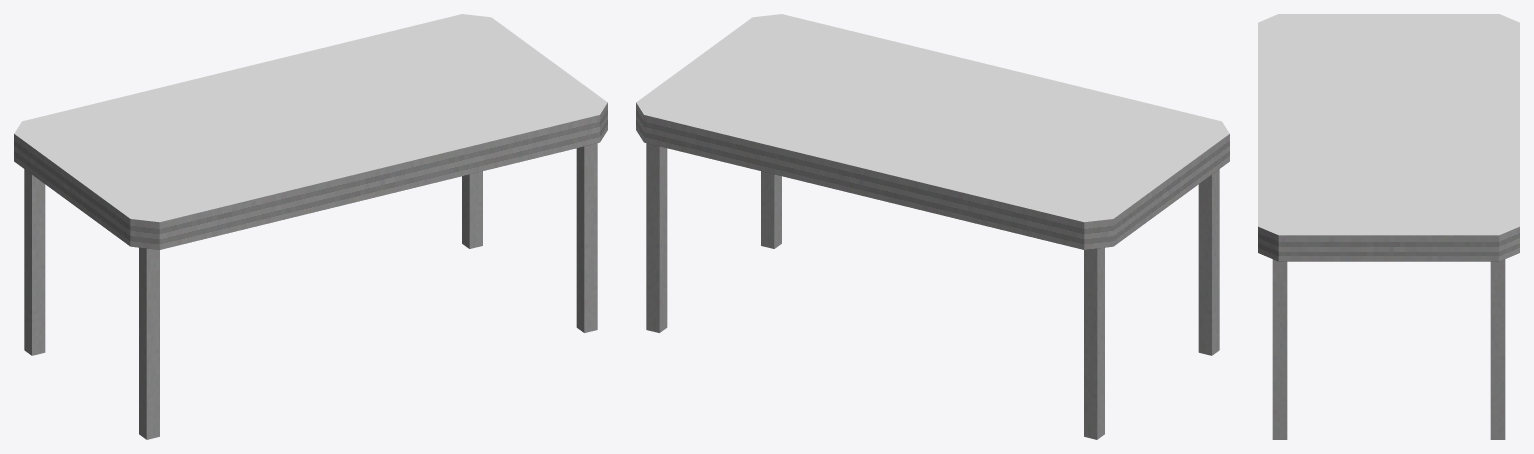
File: Table.fbx
3 renders of one model, left to right at view 1: azimuth 30°, elevation 25°; view 2: azimuth 150°, elevation 25°; view 3: azimuth 270°, elevation 25°, orthographic. The views are drawn at different scales.
Parts seen in each view (by area): view 1: Cube, Cube.001; view 2: Cube, Cube.001; view 3: Cube, Cube.001.
Part boxes in pixels (x1,y1,x2,y2): Cube: [14, 14, 607, 249]; Cube.001: [24, 143, 597, 439]; Cube: [636, 14, 1229, 249]; Cube.001: [646, 143, 1219, 439]; Cube: [1258, 14, 1519, 261]; Cube.001: [1272, 259, 1505, 439].
Size of the model in its own units: 180 by 80 by 90.
2 materials, 1 textured.
